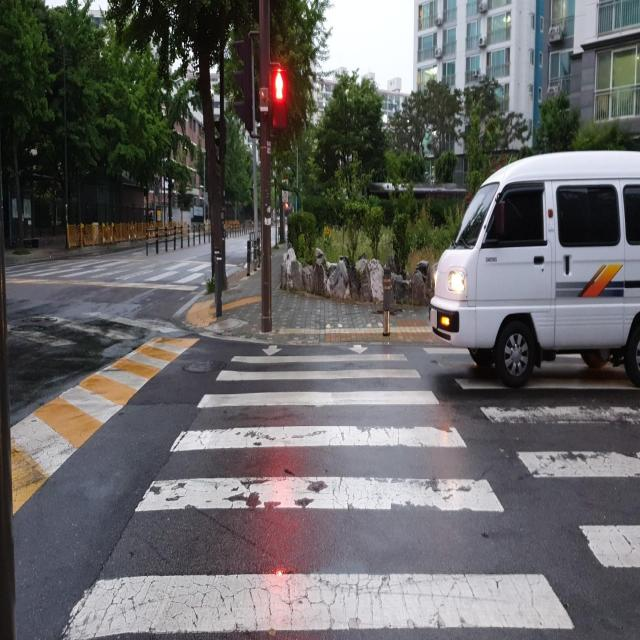빨간불: (272, 65, 289, 132)
횡단보도: (58, 342, 640, 640), (0, 261, 215, 289)
